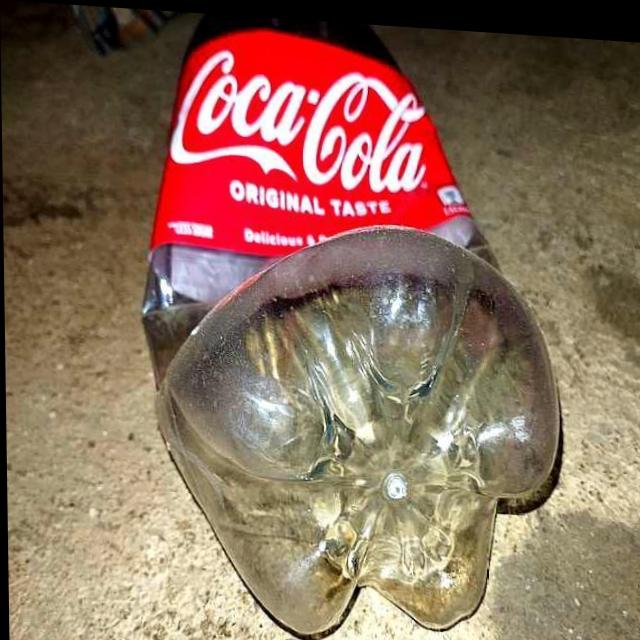Non-biodegradable: (143, 9, 557, 640)
